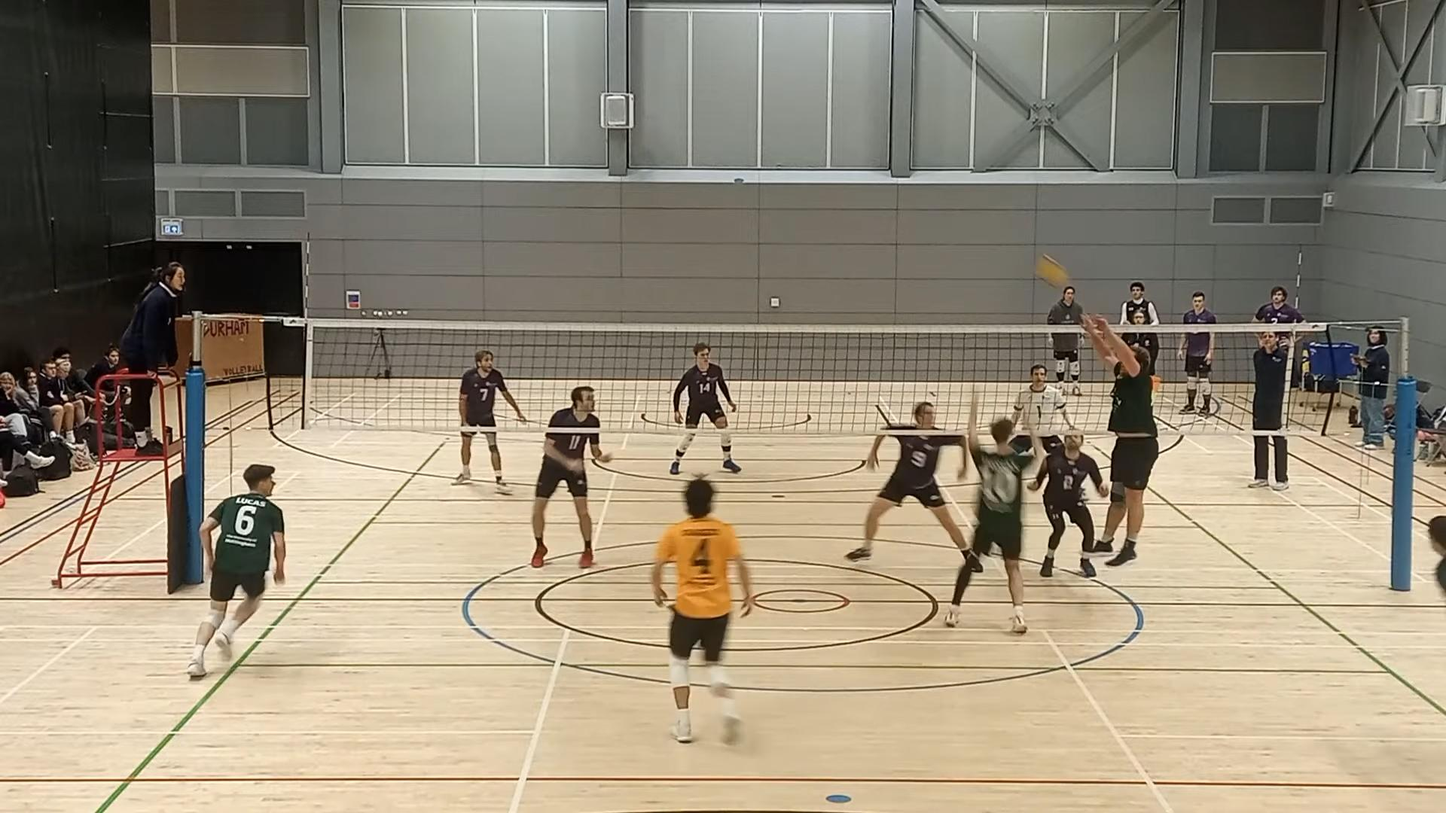Player: (651, 478, 753, 743), (944, 394, 1042, 634), (187, 464, 285, 678), (847, 434, 966, 561), (531, 387, 611, 568), (1029, 430, 1108, 577), (670, 343, 740, 474), (1011, 364, 1073, 453), (458, 350, 526, 428)
Set: (1068, 309, 1162, 574)
